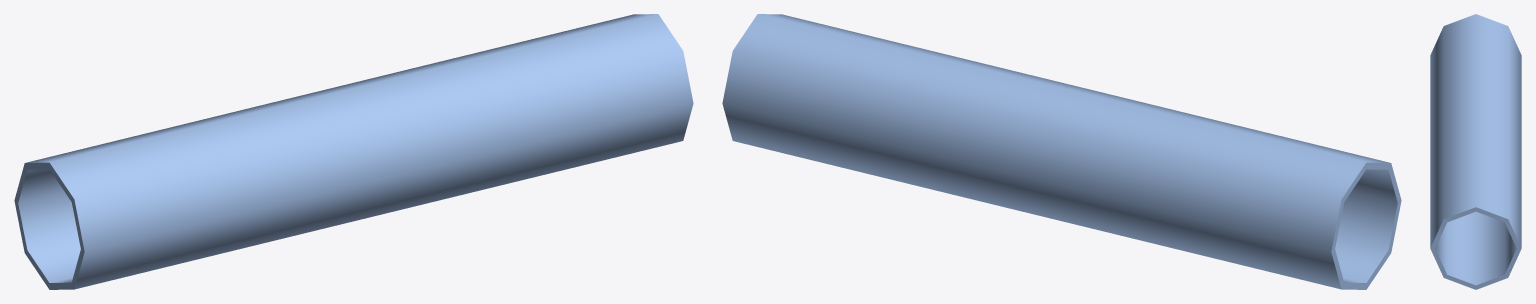
File: PipeSmall_Hollow_Straight_L05.fbx
The picture shows the model from 3 angles, left to right: view 1: azimuth 30°, elevation 25°; view 2: azimuth 150°, elevation 25°; view 3: azimuth 270°, elevation 25°; orthographic projection. The views are drawn at different scales.
Parts seen in each view (by area): view 1: PipeSmall_Hollow_Straight_L05.001; view 2: PipeSmall_Hollow_Straight_L05.001; view 3: PipeSmall_Hollow_Straight_L05.001.
Part boxes in pixels (<box>): PipeSmall_Hollow_Straight_L05.001: <box>14,14,693,289</box>; PipeSmall_Hollow_Straight_L05.001: <box>722,14,1401,289</box>; PipeSmall_Hollow_Straight_L05.001: <box>1430,14,1521,289</box>.
Size of the model in its own units: 0.5 by 0.1 by 0.1.
